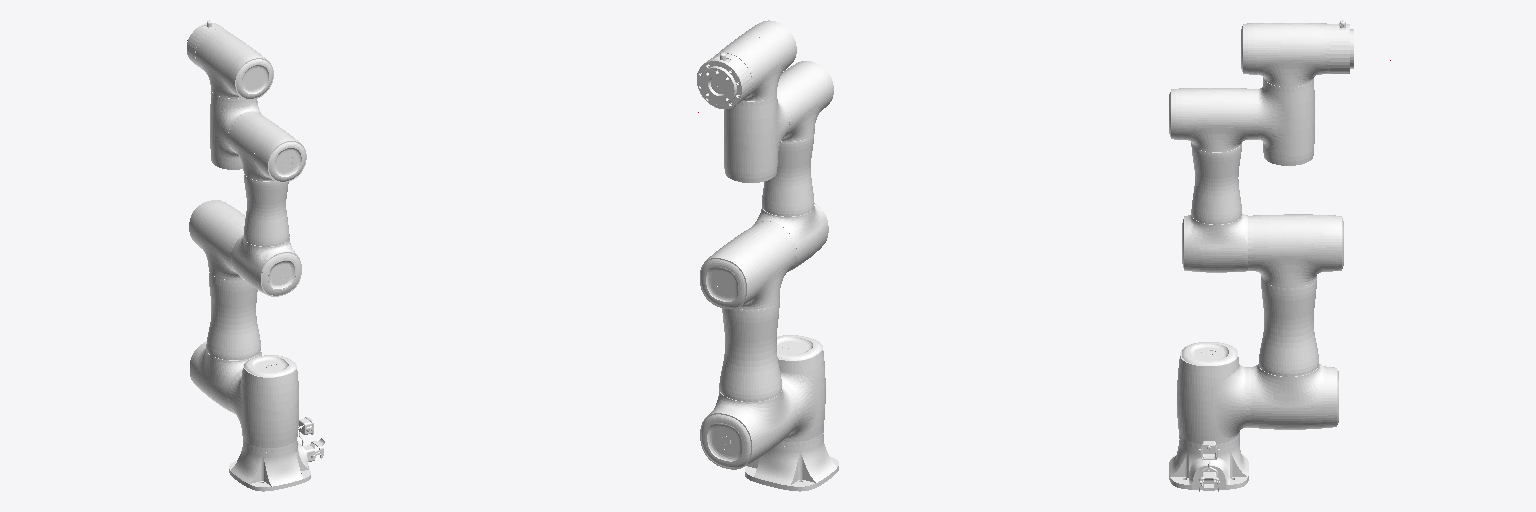
The robot description file, URDF, robot "cr3_robot":
<?xml version="1.0" ?>
<robot name="cr3_robot">
	<link name="world">
		<inertial>
			<origin rpy="0.00000 -0.00000 0.00000" xyz="0.00000 0.00000 0.00000"/>
			<mass value="0.00000"/>
			<inertia ixx="0.00000" ixy="0" ixz="0" iyy="0.00000" iyz="0" izz="0.00000"/>
		</inertial>
	</link>
	<link name="base_link">
		<inertial>
			<origin rpy="0.00000 -0.00000 0.00000" xyz="-0.00272 0.00000 0.02204"/>
			<mass value="0.65300"/>
			<inertia ixx="0.00150" ixy="0" ixz="0" iyy="0.00228" iyz="0" izz="0.00280"/>
		</inertial>
		<visual>
			<origin rpy="0.00000 -0.00000 0.00000" xyz="0.00000 0.00000 0.00000"/>
			<geometry>
				<mesh filename="../robot_arm_assets/cr3/meshes/base_link.STL" scale="1.00000 1.00000 1.00000"/>
			</geometry>
			<material name="mat_0">
				<color rgba="1.00000 1.00000 1.00000 1.00000" />
			</material>
		</visual>
		<collision>
			<origin rpy="0.00000 -0.00000 0.00000" xyz="0.00000 0.00000 0.00000"/>
			<geometry>
				<mesh filename="../robot_arm_assets/cr3/meshes/base_link.STL" scale="1.00000 1.00000 1.00000"/>
			</geometry>
		</collision>
	</link>
	<link name="Link1">
		<inertial>
			<origin rpy="0.00000 -0.00000 0.00000" xyz="-0.00004 -0.00395 0.00364"/>
			<mass value="1.31101"/>
			<inertia ixx="0.00417" ixy="0" ixz="0" iyy="0.00400" iyz="0" izz="0.00282"/>
		</inertial>
		<visual>
			<origin rpy="0.00000 -0.00000 0.00000" xyz="0.00000 0.00000 0.00000"/>
			<geometry>
				<mesh filename="../robot_arm_assets/cr3/meshes/Link1.STL" scale="1.00000 1.00000 1.00000"/>
			</geometry>
			<material name="mat_1">
				<color rgba="1.00000 1.00000 1.00000 1.00000" />
			</material>
		</visual>
		<collision>
			<origin rpy="0.00000 -0.00000 0.00000" xyz="0.00000 0.00000 0.00000"/>
			<geometry>
				<mesh filename="../robot_arm_assets/cr3/meshes/Link1.STL" scale="1.00000 1.00000 1.00000"/>
			</geometry>
		</collision>
	</link>
	<link name="Link2">
		<inertial>
			<origin rpy="0.00000 -0.00000 0.00000" xyz="-0.12924 0.00001 0.13317"/>
			<mass value="3.40044"/>
			<inertia ixx="0.01108" ixy="0" ixz="0" iyy="0.04822" iyz="0" izz="0.04400"/>
		</inertial>
		<visual>
			<origin rpy="0.00000 -0.00000 0.00000" xyz="0.00000 0.00000 0.00000"/>
			<geometry>
				<mesh filename="../robot_arm_assets/cr3/meshes/Link2.STL" scale="1.00000 1.00000 1.00000"/>
			</geometry>
			<material name="mat_2">
				<color rgba="1.00000 1.00000 1.00000 1.00000" />
			</material>
		</visual>
		<collision>
			<origin rpy="0.00000 -0.00000 0.00000" xyz="0.00000 0.00000 0.00000"/>
			<geometry>
				<mesh filename="../robot_arm_assets/cr3/meshes/Link2.STL" scale="1.00000 1.00000 1.00000"/>
			</geometry>
		</collision>
	</link>
	<link name="Link3">
		<inertial>
			<origin rpy="0.00000 -0.00000 0.00000" xyz="-0.11982 0.00000 0.00999"/>
			<mass value="2.21449"/>
			<inertia ixx="0.00597" ixy="0" ixz="0" iyy="0.02366" iyz="0" izz="0.02138"/>
		</inertial>
		<visual>
			<origin rpy="0.00000 -0.00000 0.00000" xyz="0.00000 0.00000 0.00000"/>
			<geometry>
				<mesh filename="../robot_arm_assets/cr3/meshes/Link3.STL" scale="1.00000 1.00000 1.00000"/>
			</geometry>
			<material name="mat_3">
				<color rgba="1.00000 1.00000 1.00000 1.00000" />
			</material>
		</visual>
		<collision>
			<origin rpy="0.00000 -0.00000 0.00000" xyz="0.00000 0.00000 0.00000"/>
			<geometry>
				<mesh filename="../robot_arm_assets/cr3/meshes/Link3.STL" scale="1.00000 1.00000 1.00000"/>
			</geometry>
		</collision>
	</link>
	<link name="Link4">
		<inertial>
			<origin rpy="0.00000 -0.00000 0.00000" xyz="0.00000 0.00345 -0.00287"/>
			<mass value="0.84227"/>
			<inertia ixx="0.00223" ixy="0" ixz="0" iyy="0.00124" iyz="0" izz="0.00215"/>
		</inertial>
		<visual>
			<origin rpy="0.00000 -0.00000 0.00000" xyz="0.00000 0.00000 0.00000"/>
			<geometry>
				<mesh filename="../robot_arm_assets/cr3/meshes/Link4.STL" scale="1.00000 1.00000 1.00000"/>
			</geometry>
			<material name="mat_4">
				<color rgba="1.00000 1.00000 1.00000 1.00000" />
			</material>
		</visual>
		<collision>
			<origin rpy="0.00000 -0.00000 0.00000" xyz="0.00000 0.00000 0.00000"/>
			<geometry>
				<mesh filename="../robot_arm_assets/cr3/meshes/Link4.STL" scale="1.00000 1.00000 1.00000"/>
			</geometry>
		</collision>
	</link>
	<link name="Link5">
		<inertial>
			<origin rpy="0.00000 -0.00000 0.00000" xyz="-0.00000 -0.00333 -0.00287"/>
			<mass value="0.84369"/>
			<inertia ixx="0.00224" ixy="0" ixz="0" iyy="0.00125" iyz="0" izz="0.00216"/>
		</inertial>
		<visual>
			<origin rpy="0.00000 -0.00000 0.00000" xyz="0.00000 0.00000 0.00000"/>
			<geometry>
				<mesh filename="../robot_arm_assets/cr3/meshes/Link5.STL" scale="1.00000 1.00000 1.00000"/>
			</geometry>
			<material name="mat_5">
				<color rgba="1.00000 1.00000 1.00000 1.00000" />
			</material>
		</visual>
		<collision>
			<origin rpy="0.00000 -0.00000 0.00000" xyz="0.00000 0.00000 0.00000"/>
			<geometry>
				<mesh filename="../robot_arm_assets/cr3/meshes/Link5.STL" scale="1.00000 1.00000 1.00000"/>
			</geometry>
		</collision>
	</link>
	<link name="Link6">
		<inertial>
			<origin rpy="0.00000 -0.00000 0.00000" xyz="-0.00000 0.00027 -0.02014"/>
			<mass value="0.15941"/>
			<inertia ixx="0.00015" ixy="0" ixz="0" iyy="0.00013" iyz="0" izz="0.00023"/>
		</inertial>
		<visual>
			<origin rpy="0.00000 -0.00000 0.00000" xyz="0.00000 0.00000 0.00000"/>
			<geometry>
				<mesh filename="../robot_arm_assets/cr3/meshes/Link6.STL" scale="1.00000 1.00000 1.00000"/>
			</geometry>
			<material name="mat_6">
				<color rgba="1.00000 1.00000 1.00000 1.00000" />
			</material>
		</visual>
		<collision>
			<origin rpy="0.00000 -0.00000 0.00000" xyz="0.00000 0.00000 0.00000"/>
			<geometry>
				<mesh filename="../robot_arm_assets/cr3/meshes/Link6.STL" scale="1.00000 1.00000 1.00000"/>
			</geometry>
		</collision>
	</link>
	<link name="ee_link">
		<inertial>
			<origin rpy="-3.14000 -0.00000 1.57000" xyz="0.00000 0.00000 0.00000"/>
			<mass value="0.00000"/>
			<inertia ixx="0.00000" ixy="0" ixz="0" iyy="0.00000" iyz="0" izz="0.00000"/>
		</inertial>
		<visual>
			<origin rpy="0.00000 -0.00000 0.00000" xyz="0.00000 0.00000 0.00000"/>
			<geometry>
				<sphere radius="0.00100"/>
			</geometry>
			<material name="mat_7">
				<color rgba="1.00000 1.00000 1.00000 1.00000" />
			</material>
		</visual>
		<collision>
			<origin rpy="0.00000 -0.00000 0.00000" xyz="0.00000 0.00000 0.00000"/>
			<geometry>
				<sphere radius="0.00100"/>
			</geometry>
		</collision>
	</link>
	<link name="digit_body_link">
		<inertial>
			<origin rpy="0.00000 -0.00000 0.00000" xyz="0.00443 -0.01409 0.00000"/>
			<mass value="0.00778"/>
			<inertia ixx="0.00000" ixy="0" ixz="0" iyy="0.00000" iyz="0" izz="0.00000"/>
		</inertial>
		<visual>
			<origin rpy="0.00000 -0.00000 0.00000" xyz="0.00000 0.00000 0.02000"/>
			<geometry>
				<mesh filename="../sensor_assets/right_angle_digit/../standard_digit/body/digit_body.stl" scale="1.00000 1.00000 1.00000"/>
			</geometry>
			<material name="mat_8">
				<color rgba="0.80000 0.80000 0.80000 1.00000" />
			</material>
		</visual>
		<collision>
			<origin rpy="0.00000 -0.00000 0.00000" xyz="0.00000 0.00000 0.02000"/>
			<geometry>
				<mesh filename="../sensor_assets/right_angle_digit/../standard_digit/body/digit_body.stl" scale="1.00000 1.00000 1.00000"/>
			</geometry>
		</collision>
	</link>
	<link name="digit_tip_link">
		<inertial>
			<origin rpy="0.00000 -0.00000 0.00000" xyz="-0.00000 0.00554 -0.00576"/>
			<mass value="0.00130"/>
			<inertia ixx="0.00000" ixy="0" ixz="0" iyy="0.00000" iyz="0" izz="0.00000"/>
		</inertial>
		<visual>
			<origin rpy="0.00000 -0.00000 0.00000" xyz="0.00000 0.00000 -0.02000"/>
			<geometry>
				<mesh filename="../sensor_assets/right_angle_digit/../standard_digit/tip/digit_skin.stl" scale="1.05000 1.05000 1.00000"/>
			</geometry>
			<material name="mat_9">
				<color rgba="0.00000 0.00000 0.00000 1.00000" />
			</material>
		</visual>
		<collision>
			<origin rpy="0.00000 -0.00000 0.00000" xyz="0.00000 0.00000 -0.02000"/>
			<geometry>
				<mesh filename="../sensor_assets/right_angle_digit/../standard_digit/tip/digit_core.stl" scale="1.05000 1.05000 1.00000"/>
			</geometry>
		</collision>
	</link>
	<link name="tcp_link">
		<inertial>
			<origin rpy="0.00000 -0.00000 1.57000" xyz="0.00000 0.00000 0.00000"/>
			<mass value="0.00000"/>
			<inertia ixx="0.00000" ixy="0" ixz="0" iyy="0.00000" iyz="0" izz="0.00000"/>
		</inertial>
		<visual>
			<origin rpy="0.00000 -0.00000 0.00000" xyz="0.00000 0.00000 0.00000"/>
			<geometry>
				<sphere radius="0.00100"/>
			</geometry>
			<material name="mat_10">
				<color rgba="0.90000 0.00000 0.20000 0.50000" />
			</material>
		</visual>
	</link>
	<joint name="world_joint" type="fixed">
		<parent link="world"/>
		<child link="base_link"/>
		<dynamics damping="1.0" friction="0.0001"/>
		<origin rpy="0.00000 -0.00000 -3.14000" xyz="0.00000 0.00000 0.00000"/>
		<axis xyz="0.00000 0.00000 0.00000"/>
	</joint>
	<joint name="joint1" type="revolute">
		<parent link="base_link"/>
		<child link="Link1"/>
		<limit effort="0.00000" lower="-3.14000" upper="3.14000" velocity="0.00000"/>
		<dynamics damping="1.0" friction="0.0001"/>
		<origin rpy="0.00000 -0.00000 0.00000" xyz="0.00000 0.00000 0.12830"/>
		<axis xyz="0.00000 0.00000 1.00000"/>
	</joint>
	<joint name="joint2" type="revolute">
		<parent link="Link1"/>
		<child link="Link2"/>
		<limit effort="0.00000" lower="-3.14000" upper="3.14000" velocity="0.00000"/>
		<dynamics damping="1.0" friction="0.0001"/>
		<origin rpy="0.00000 1.57080 4.71239" xyz="0.00000 0.00000 0.00000"/>
		<axis xyz="0.00000 0.00000 1.00000"/>
	</joint>
	<joint name="joint3" type="revolute">
		<parent link="Link2"/>
		<child link="Link3"/>
		<limit effort="0.00000" lower="-2.86000" upper="2.86000" velocity="0.00000"/>
		<dynamics damping="1.0" friction="0.0001"/>
		<origin rpy="0.00000 -0.00000 0.00000" xyz="-0.27400 0.00000 0.00000"/>
		<axis xyz="0.00000 0.00000 1.00000"/>
	</joint>
	<joint name="joint4" type="revolute">
		<parent link="Link3"/>
		<child link="Link4"/>
		<limit effort="0.00000" lower="-3.14000" upper="3.14000" velocity="0.00000"/>
		<dynamics damping="1.0" friction="0.0001"/>
		<origin rpy="0.00000 0.00000 -1.57080" xyz="-0.23000 0.00000 0.12830"/>
		<axis xyz="0.00000 0.00000 1.00000"/>
	</joint>
	<joint name="joint5" type="revolute">
		<parent link="Link4"/>
		<child link="Link5"/>
		<limit effort="0.00000" lower="-3.14000" upper="3.14000" velocity="0.00000"/>
		<dynamics damping="1.0" friction="0.0001"/>
		<origin rpy="1.57080 -0.00000 0.00000" xyz="0.00000 -0.11600 0.00000"/>
		<axis xyz="0.00000 0.00000 1.00000"/>
	</joint>
	<joint name="joint6" type="revolute">
		<parent link="Link5"/>
		<child link="Link6"/>
		<limit effort="0.00000" lower="-6.28000" upper="6.28000" velocity="0.00000"/>
		<dynamics damping="1.0" friction="0.0001"/>
		<origin rpy="-1.57080 0.00000 0.00000" xyz="0.00000 0.10500 0.00000"/>
		<axis xyz="0.00000 0.00000 1.00000"/>
	</joint>
	<joint name="ee_joint" type="fixed">
		<parent link="Link6"/>
		<child link="ee_link"/>
		<dynamics damping="1.0" friction="0.0001"/>
		<origin rpy="3.14000 -0.00000 -0.00000" xyz="0.00000 0.00000 0.00000"/>
		<axis xyz="0.00000 0.00000 0.00000"/>
	</joint>
	<joint name="joint_dummy1" type="fixed">
		<parent link="ee_link"/>
		<child link="digit_body_link"/>
		<dynamics damping="1.0" friction="0.0001"/>
		<origin rpy="-1.57080 -1.57080 3.14159" xyz="0.00000 0.00500 -0.06000"/>
		<axis xyz="0.00000 0.00000 1.00000"/>
	</joint>
	<joint name="digit_tip_to_body" type="fixed">
		<parent link="digit_body_link"/>
		<child link="digit_tip_link"/>
		<dynamics damping="1.0" friction="0.0001"/>
		<origin rpy="-3.14159 -0.00000 1.57080" xyz="-0.00152 -0.00001 -0.00415"/>
		<axis xyz="0.00000 0.00000 0.00000"/>
	</joint>
	<joint name="tcp_joint" type="fixed">
		<parent link="digit_body_link"/>
		<child link="tcp_link"/>
		<dynamics damping="1.0" friction="0.0001"/>
		<origin rpy="1.57000 -0.00000 -1.57000" xyz="0.00070 0.00000 0.02500"/>
		<axis xyz="0.00000 0.00000 0.00000"/>
	</joint>
</robot>

--- Facts derived from the render (not from the file) ---
Views: 3 orthographic renders of the robot side by side, from view 1: azimuth 30°, elevation 25°; view 2: azimuth 150°, elevation 25°; view 3: azimuth 270°, elevation 25°.
Model cr3_robot with 12 links and 11 joints (6 revolute, 5 fixed), rooted at world, posed all joints at 0.
Visible links, largest first — view 1: Link3, Link2, Link1, Link5, base_link, Link4; view 2: Link2, Link3, Link4, Link1, Link5, base_link, Link6; view 3: Link2, Link3, Link1, Link5, Link4, base_link, Link6.
Link boxes in pixels (x1,y1,x2,y2): Link3: (228, 112, 306, 296); Link2: (189, 200, 261, 413); Link1: (230, 355, 298, 452); Link5: (195, 29, 273, 99); base_link: (229, 417, 325, 491); Link4: (210, 91, 261, 169); Link2: (700, 221, 799, 469); Link3: (753, 61, 833, 270); Link4: (724, 93, 789, 182); Link1: (777, 335, 825, 446); Link5: (716, 20, 796, 100); base_link: (745, 433, 838, 491); Link6: (697, 53, 751, 109); Link2: (1246, 214, 1343, 429); Link3: (1169, 88, 1257, 272); Link1: (1177, 342, 1245, 448); Link5: (1241, 23, 1329, 86); Link4: (1258, 78, 1314, 165); base_link: (1169, 437, 1248, 491); Link6: (1330, 20, 1353, 73).
Size in the robot's own frame: 0.1753 by 0.3586 by 0.8041 metres.
Meshes: 9 distinct files referenced, 7 mesh visuals loaded (7 binary STL); not drawn: 2 (reference not matched to a file when rendering).